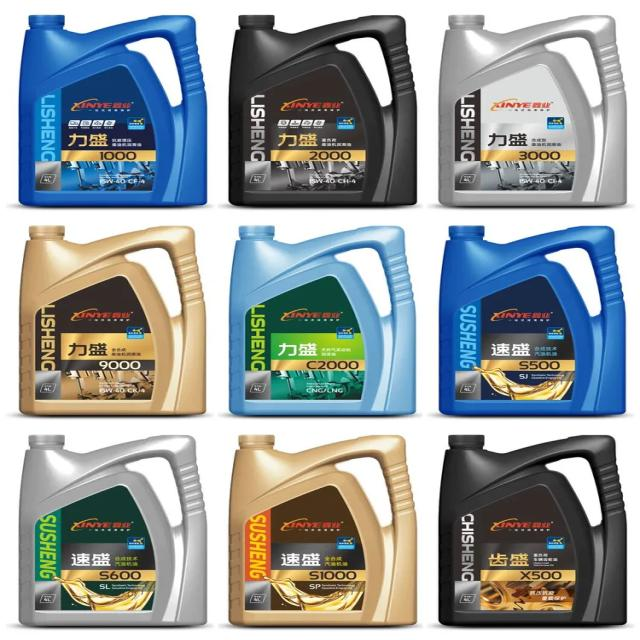motor_oil: (11, 429, 215, 632), (223, 431, 421, 631), (16, 7, 208, 208), (227, 222, 420, 420), (435, 433, 630, 628), (17, 222, 210, 419), (438, 222, 628, 422), (444, 12, 631, 210), (233, 14, 422, 208)
